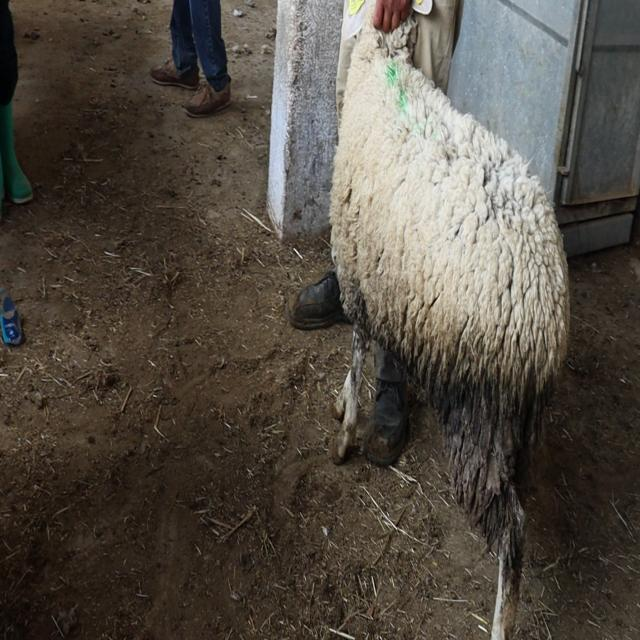Score_5: (329, 0, 570, 639)
